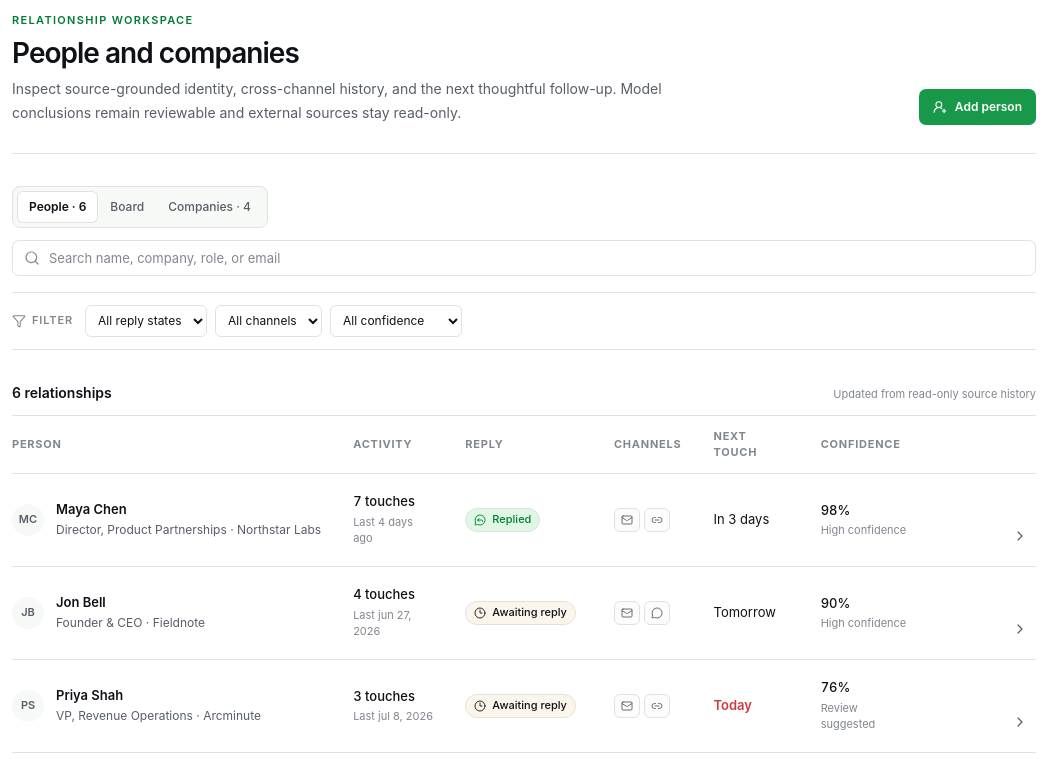
it: people and company workspace › filters typed records through URL-backed controls and exposes responsive representations
Type "Arcminute" into the search field named "Search people" at [524, 258], box [12, 240, 1036, 276]
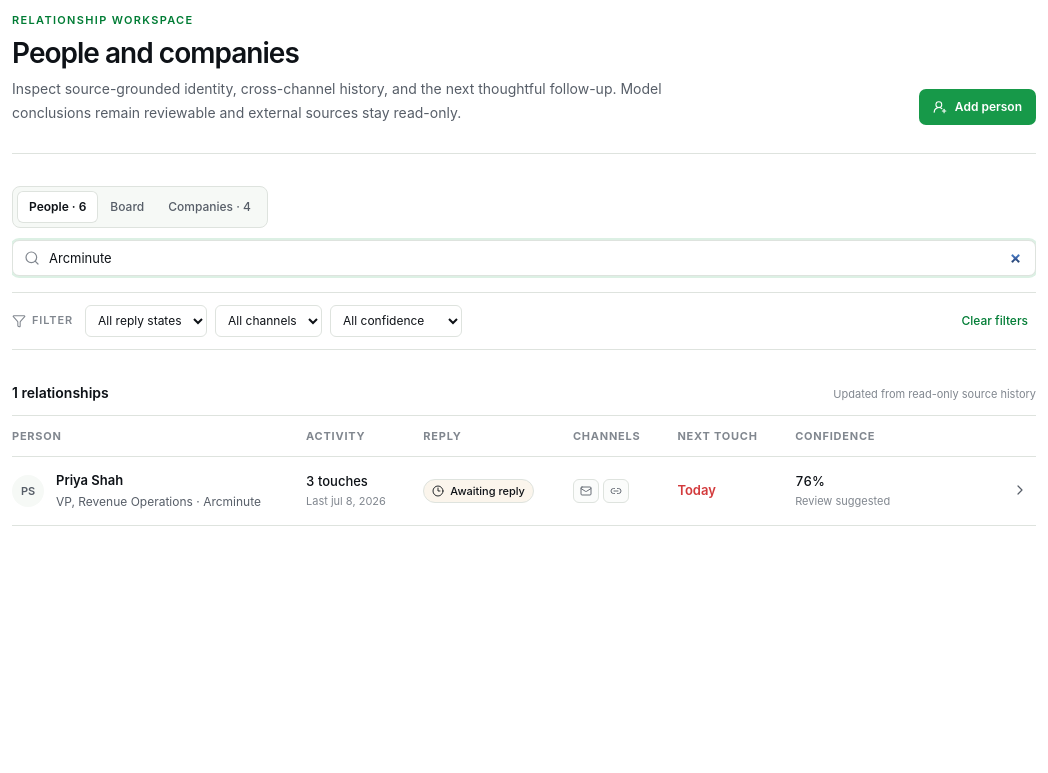
Expected: the link "Priya Shah" is shown, [56, 472, 123, 488]
Expected: the link "Jon Bell" is gone
Click the button "Companies · 4" at [210, 207], box [156, 191, 263, 223]
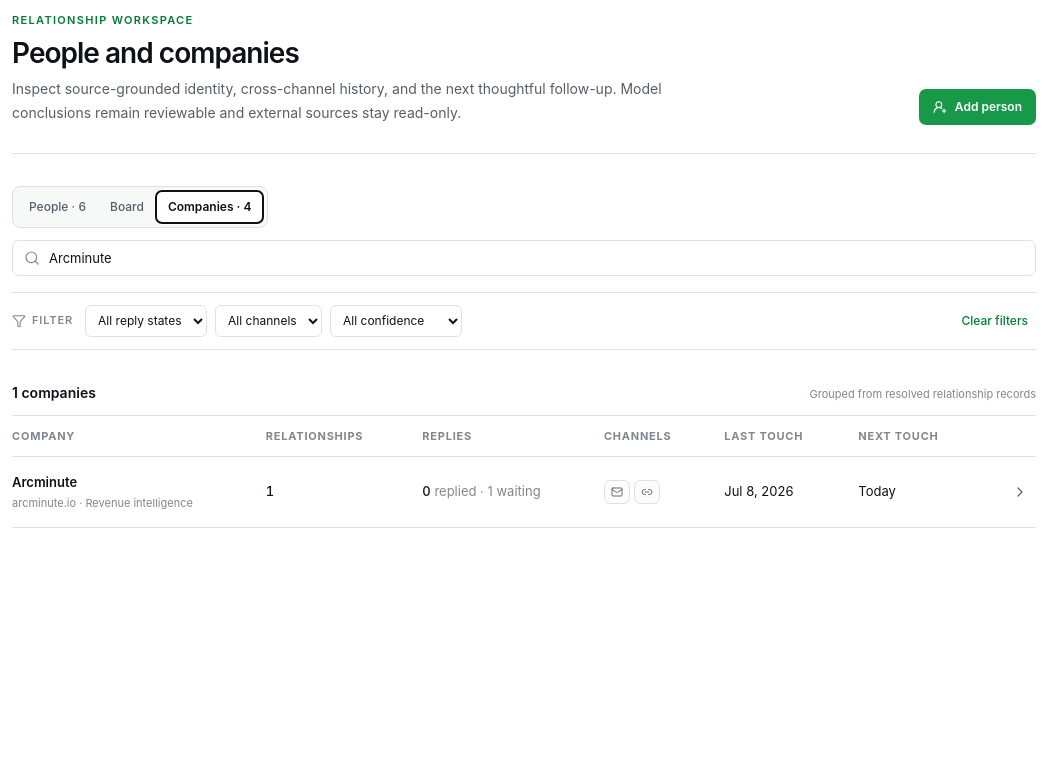
Expected: the link "Arcminute" is shown, [12, 474, 77, 490]
